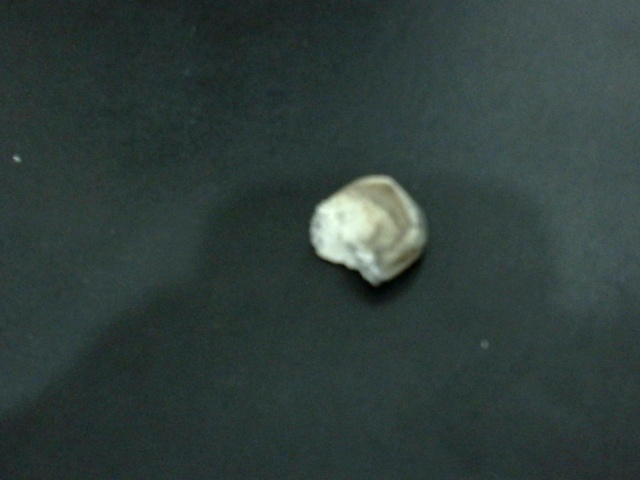eraser: (291, 157, 455, 332)
